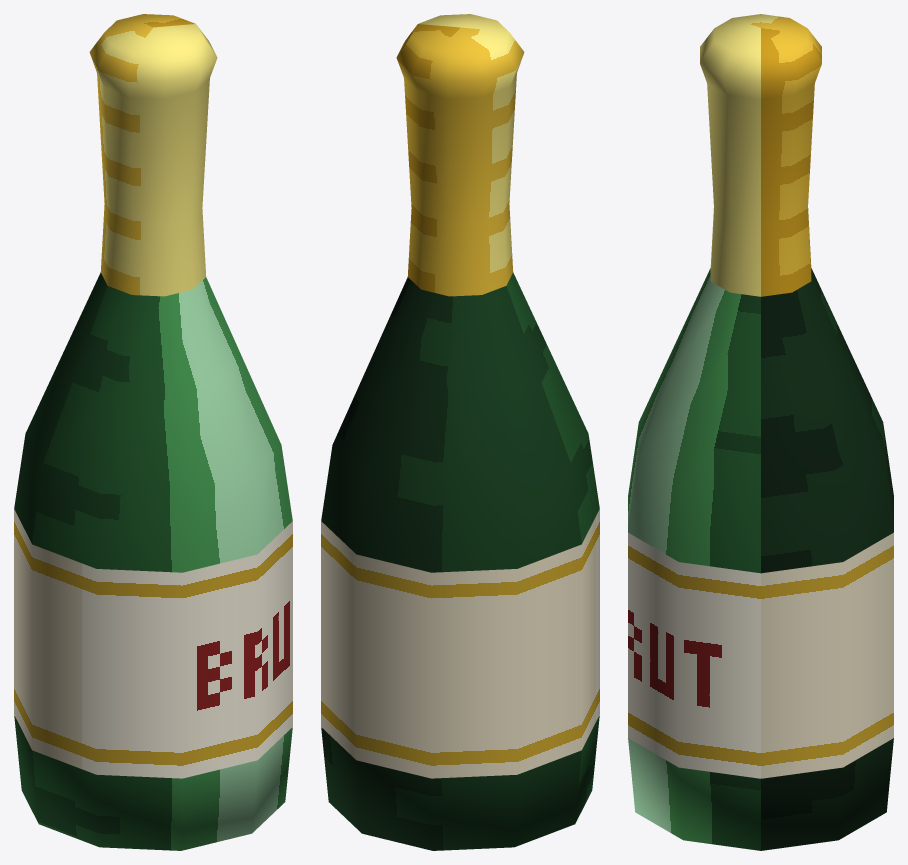
File: food3-champagneBottle.glb
The picture shows the model from 3 angles, left to right: view 1: azimuth 30°, elevation 25°; view 2: azimuth 150°, elevation 25°; view 3: azimuth 270°, elevation 25°; orthographic projection.
Parts seen in each view (by area): view 1: food3.champagneBottle; view 2: food3.champagneBottle; view 3: food3.champagneBottle.
Boxes of the visible parts, box(x1,y1,x2,y2) form: food3.champagneBottle: box(14, 14, 292, 850); food3.champagneBottle: box(321, 14, 599, 850); food3.champagneBottle: box(628, 14, 893, 850).
Size of the model in its own units: 0.6306 by 1.91 by 0.5998.
Materials: 3 (3 with a texture image).
